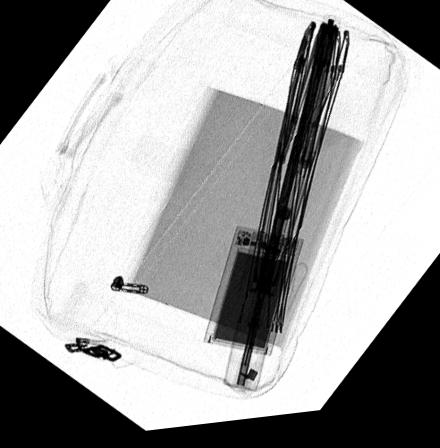Powerbank: (200, 229, 306, 363)
